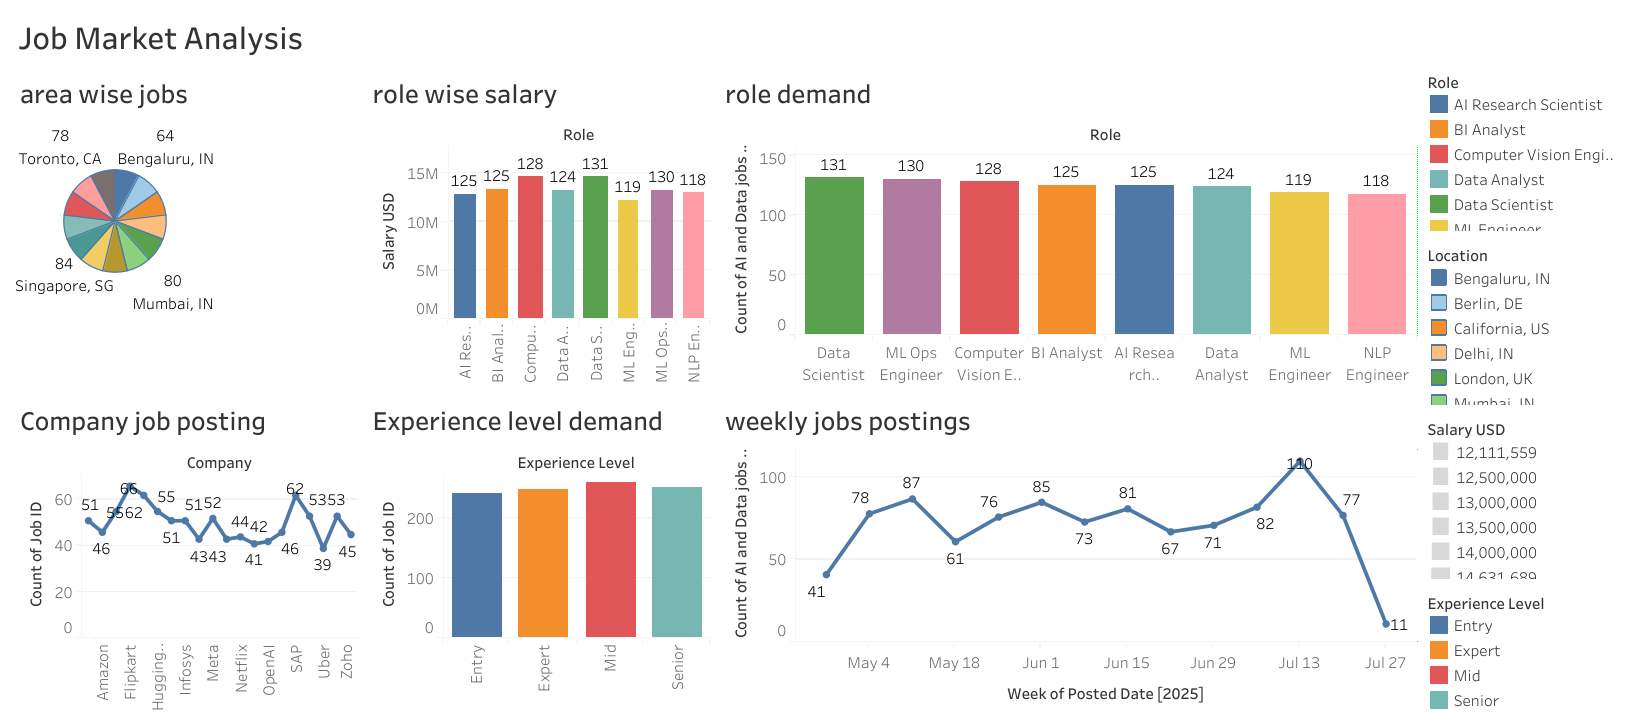

Layout of this report page (visuals, bound fields, positions):
{"tool":"tableau","page":{"name":"Dashboard 1","canvas":[1000,1000],"units":"permille","ordinal":0},"visuals":[{"type":"worksheet","title":"Sheet 1","mark":"Pie","box":[6.1,13.8,216.2,486.2]},{"type":"worksheet","title":"Sheet 4","mark":"Bar","rows":["Salary_USD"],"cols":["Role"],"box":[222.3,13.8,216.3,486.2]},{"type":"worksheet","title":"Sheet 2","mark":"Automatic","rows":["AI and Data jobs 2024.csv_500A537E55394BE79615B8044FA37D5D"],"cols":["Role"],"box":[438.6,13.8,432.7,486.2]},{"type":"legend","title":"Sheet 2","param":"[federated.1cjfop71ulrtao15i3ax81ezh2ih].[none:Role:nk]","box":[871.3,13.8,122.6,268]},{"type":"legend","title":"Sheet 1","param":"[federated.1cjfop71ulrtao15i3ax81ezh2ih].[none:Location:nk]","box":[871.3,281.8,122.6,268]},{"type":"worksheet","title":"Sheet 3","mark":"Line","rows":["Job_ID"],"cols":["Company"],"box":[6.1,500,216.2,486.3]},{"type":"worksheet","title":"Sheet 6","mark":"Bar","rows":["Job_ID"],"cols":["Experience_Level"],"box":[222.3,500,216.3,486.3]},{"type":"worksheet","title":"Sheet 5","mark":"Automatic","rows":["AI and Data jobs 2024.csv_500A537E55394BE79615B8044FA37D5D"],"cols":["Posted_Date"],"box":[438.6,500,432.6,486.3]},{"type":"legend","title":"Sheet 4","param":"[federated.1cjfop71ulrtao15i3ax81ezh2ih].[sum:Salary_USD:qk]","box":[871.3,549.8,122.6,252.6]},{"type":"legend","title":"Sheet 6","param":"[federated.1cjfop71ulrtao15i3ax81ezh2ih].[none:Experience_Level:nk]","box":[871.3,802.4,122.6,183.9]}]}

Visuals, with their boxes on the dashboard's canvas, which has no fixed pixel size, in thousandths of its width and height (x1, y1, x2, y2). These are canvas units, not pixel positions in the 1630x726 screenshot, which may show the page scaled, cropped or inside an application window:
"Sheet 1" worksheet (Pie marks): <bbox>6, 14, 222, 500</bbox>
"Sheet 4" worksheet (Bar marks): <bbox>222, 14, 439, 500</bbox>
"Sheet 2" worksheet: <bbox>439, 14, 871, 500</bbox>
"Sheet 2" legend: <bbox>871, 14, 994, 282</bbox>
"Sheet 1" legend: <bbox>871, 282, 994, 550</bbox>
"Sheet 3" worksheet (Line marks): <bbox>6, 500, 222, 986</bbox>
"Sheet 6" worksheet (Bar marks): <bbox>222, 500, 439, 986</bbox>
"Sheet 5" worksheet: <bbox>439, 500, 871, 986</bbox>
"Sheet 4" legend: <bbox>871, 550, 994, 802</bbox>
"Sheet 6" legend: <bbox>871, 802, 994, 986</bbox>
